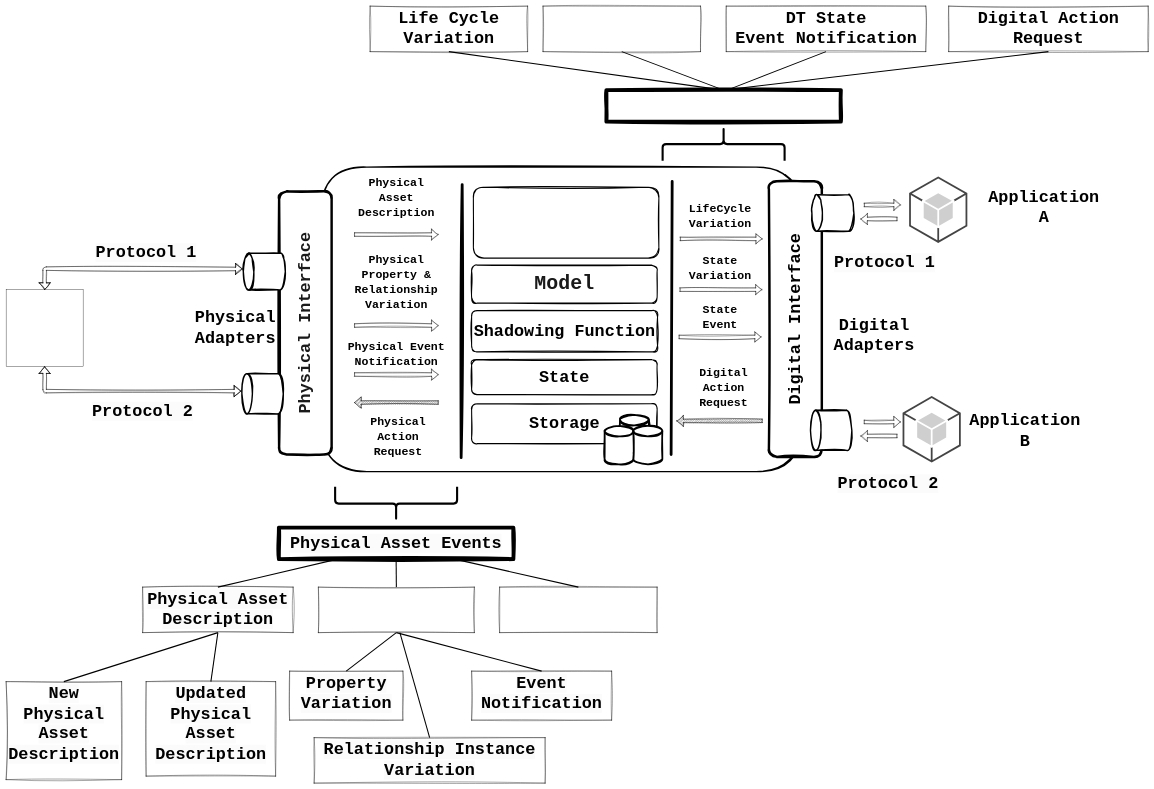
Some shapes in this 1154 by 789 pixel diagram are drawn without their labels. The shapes that lost their labels are listed below. From the top down, each one's centre as x and y in pixels, then its label:
At point (622, 29): "DT State Variation".
At point (723, 105): "Digital Twin Events".
At point (566, 222): "Life Cycle Manager".
At point (44, 328): "Physical Asset".
At point (396, 610): "Physical Asset Variation".
At point (578, 610): "Physical Asset Action Request".
